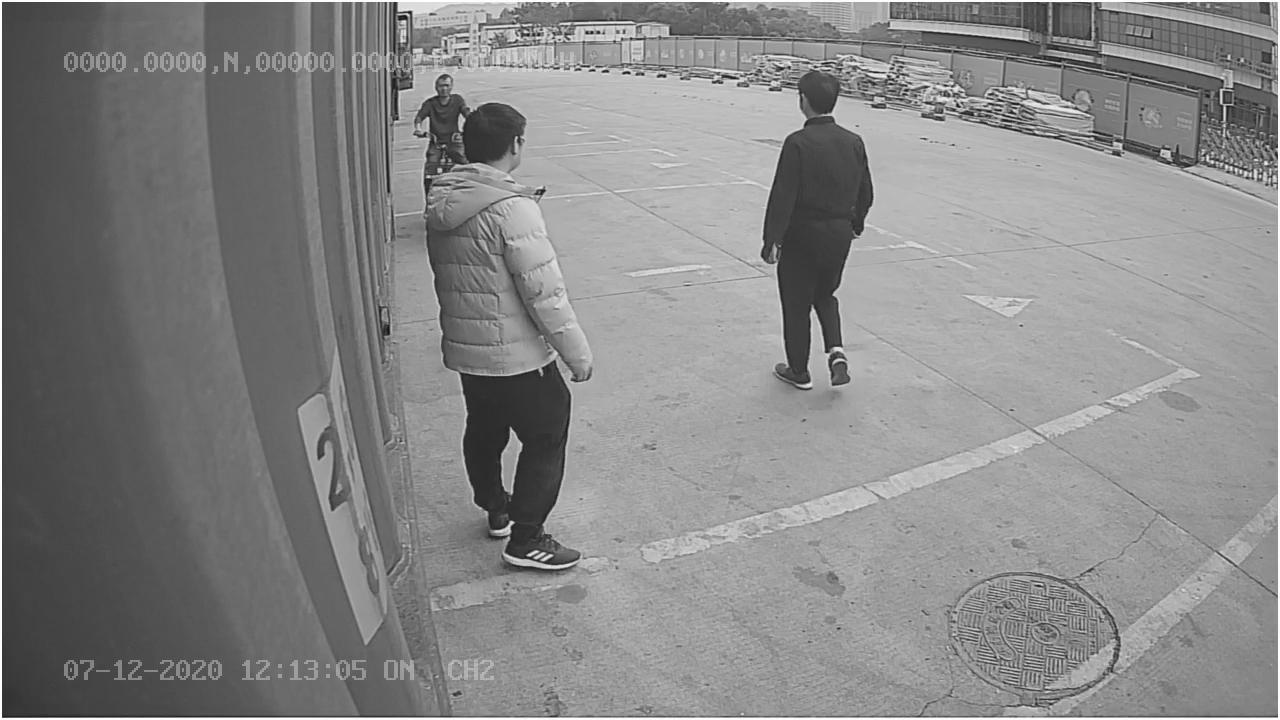person: (763, 69, 880, 390)
